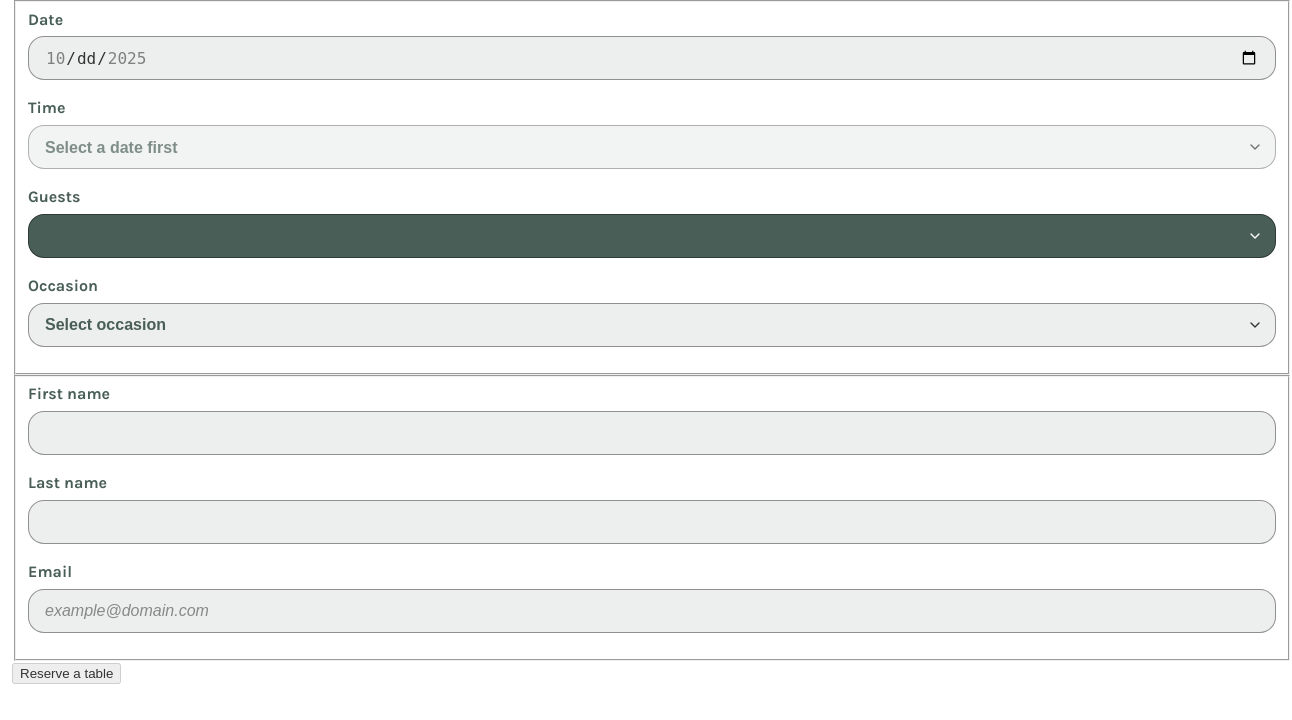
BookingForm attribute tests › Time select: disabled until date chosen, then enabled and options rendered
Expected: the dropdown labelled "Time" is disabled, [28,125,1276,169]
Step 1. Type "2025-10-17" into the date field labelled "Date" → [652, 58], box [28,36,1276,80]
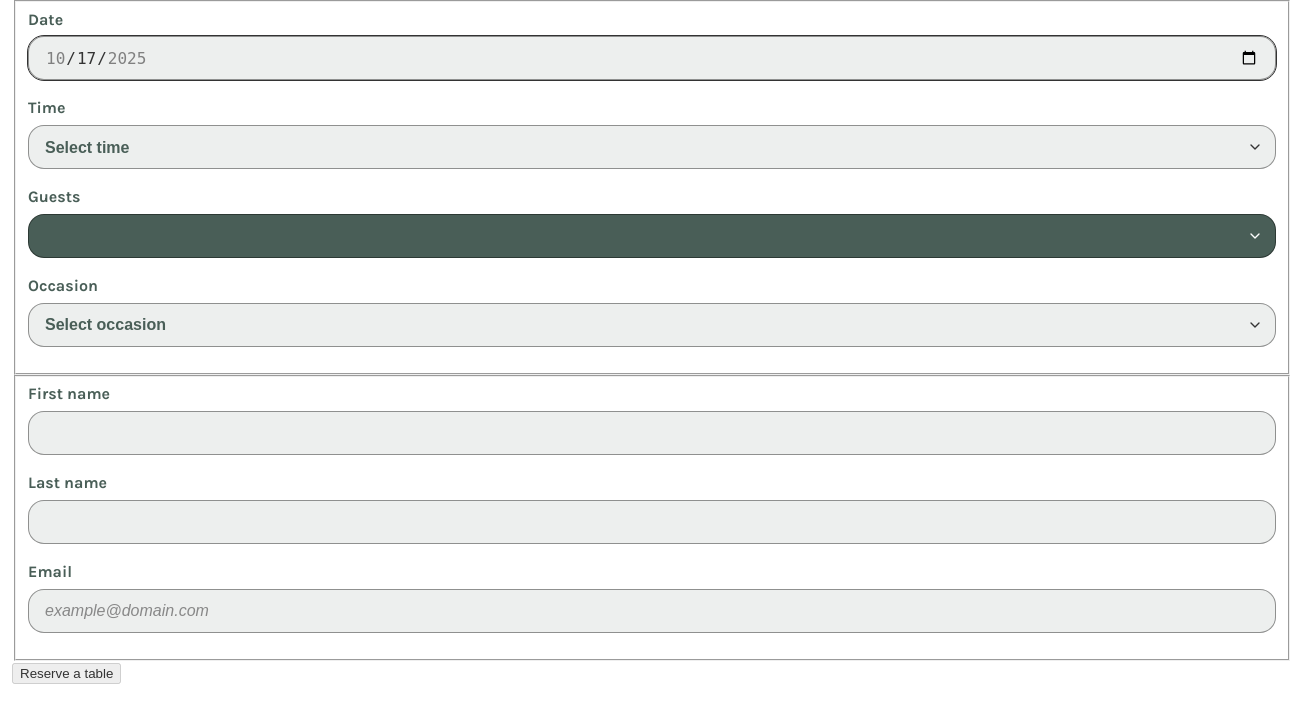
Result: the dropdown labelled "Time" is enabled at [28,125,1276,169]
